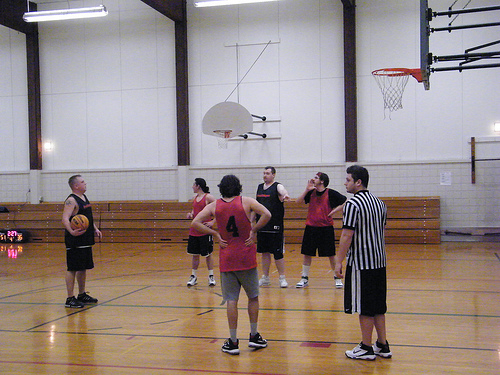basketball: (70, 214, 89, 231)
